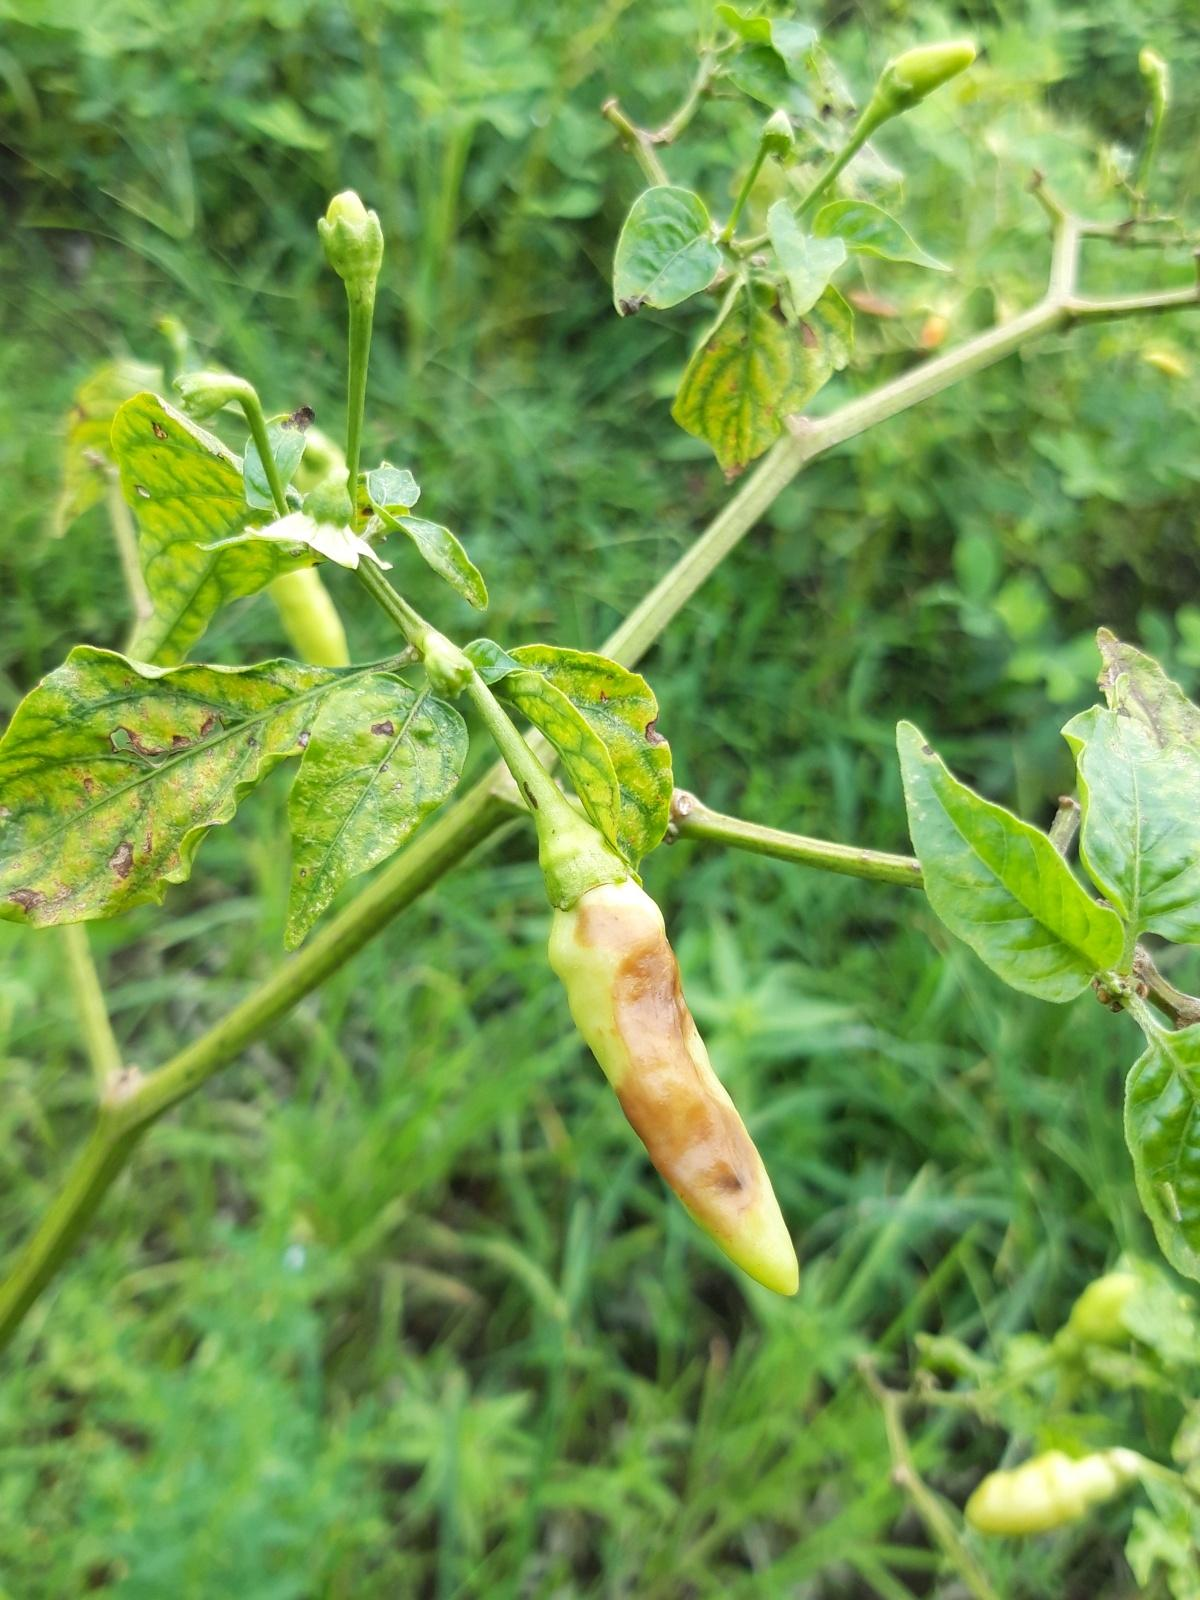lalat_buah: (547, 860, 800, 1296)
